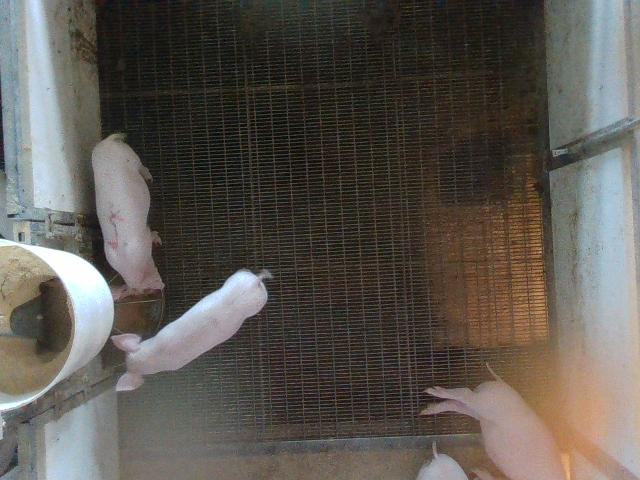pig-5: (92, 134, 164, 304)
